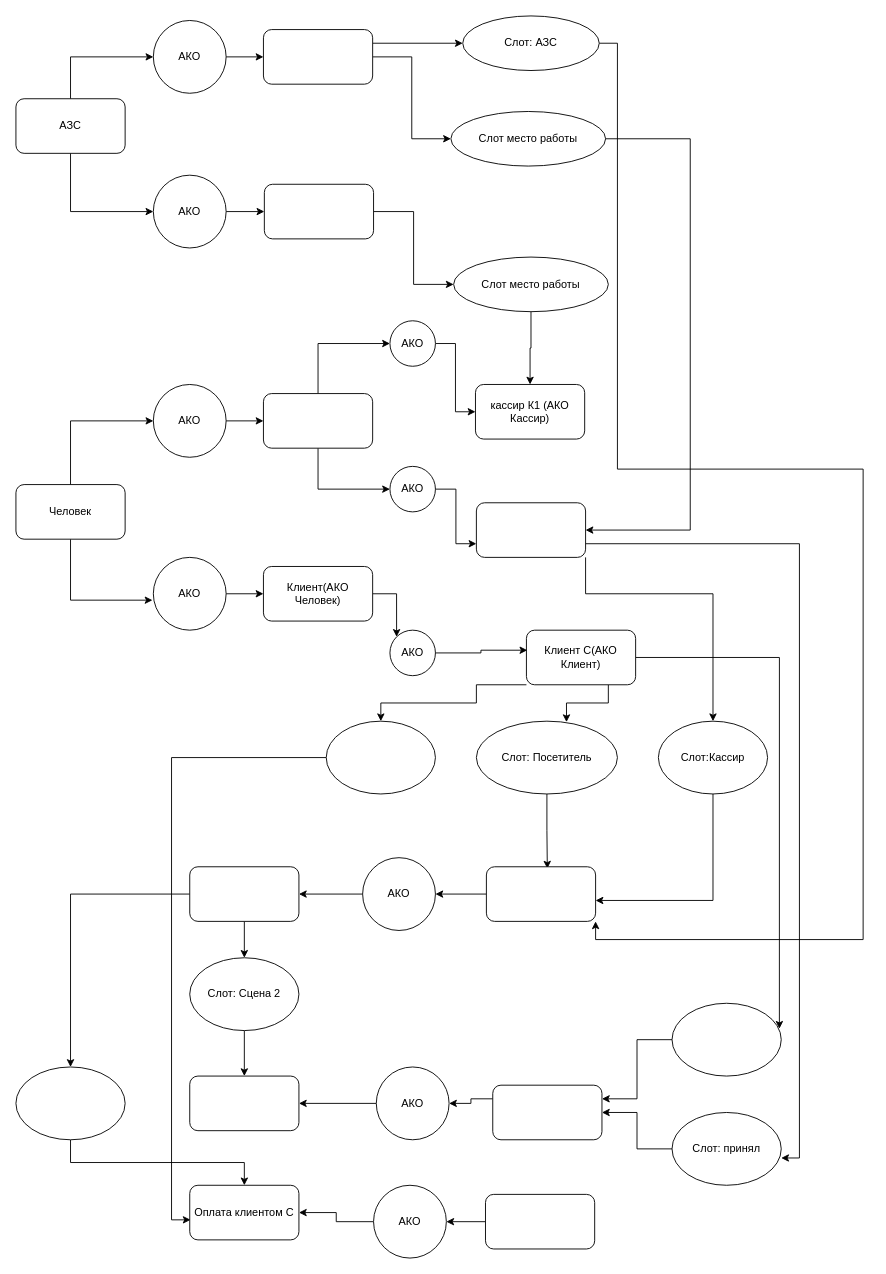
Image size: 886x1274. Some labels were removed from this diagram. The centre of each missing label's shape, as x and y in pixels:
АЗС А1(АКО АЗС): point (318, 211)
АЗС А2(АКО АЗС): point (318, 56)
Выбор топлива: point (547, 1112)
Выбор топлива клиентом С: point (244, 1103)
Кассир (АКО Человек): point (318, 420)
Кассир К2(АКО Кассир): point (530, 529)
Оплата: point (540, 1221)
Посещение АЗС: point (244, 893)
Посещение АЗС А2: point (540, 893)
Слот: Cцена 3: point (70, 1103)
Слот: оплатил: point (380, 757)
Слот: сделал: point (726, 1039)
